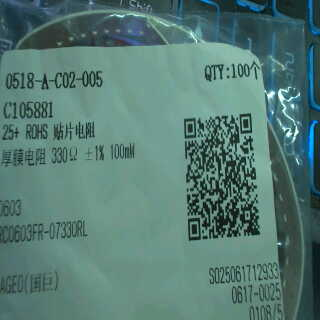330R: (46, 144, 84, 170)
